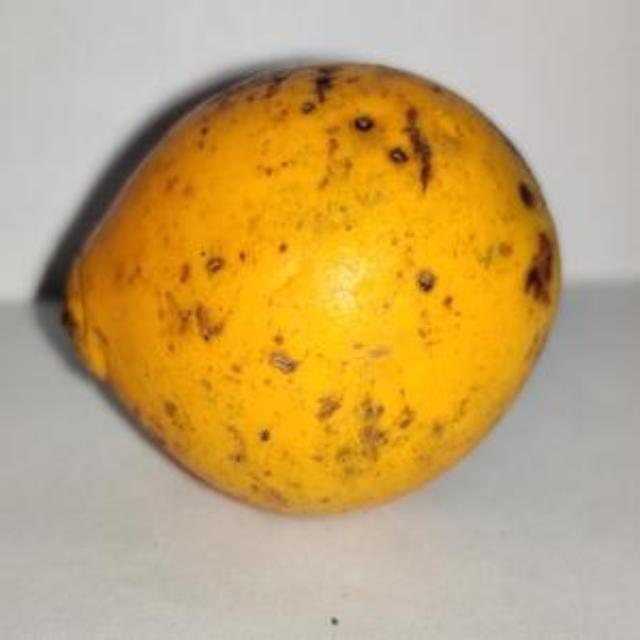good: (58, 62, 563, 520)
